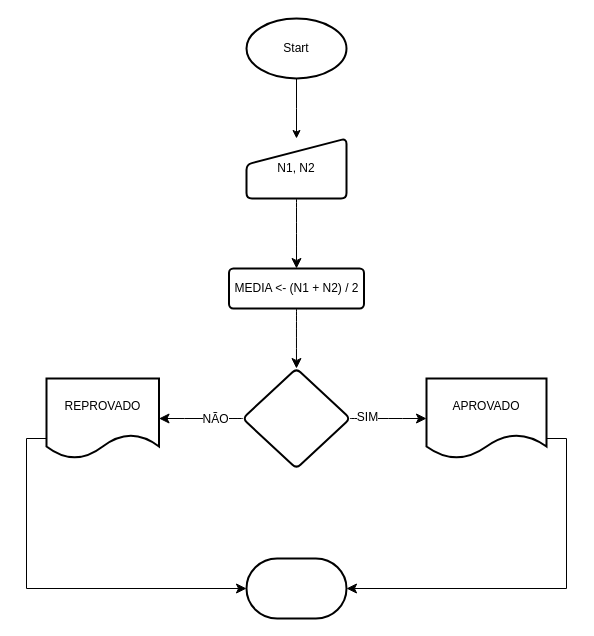
The diagram is 594 pixels wide and 636 high, and some of its shapes have lost their labels. Each missing label, with the centre of its shape:
"FIM" goes at pixel 296 588.
"MEDIA >= 6 ?" goes at pixel 296 418.
